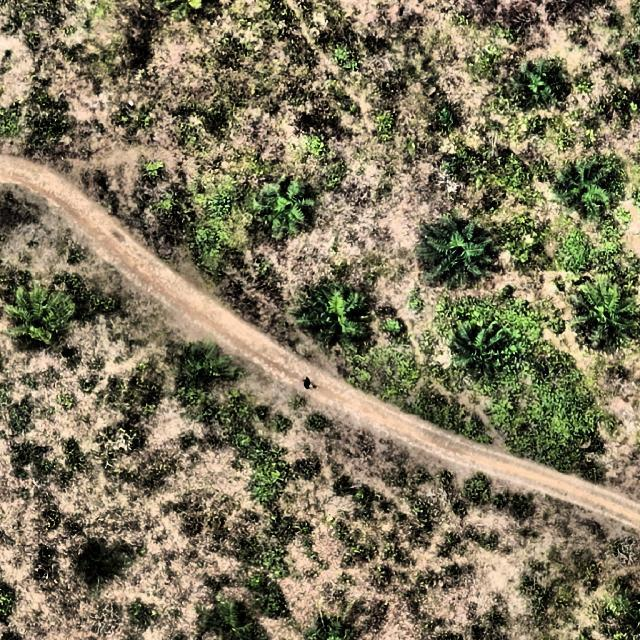Kelapa_Sawit: (427, 222, 495, 288), (13, 285, 78, 346), (458, 318, 518, 382), (307, 288, 375, 342), (258, 181, 318, 240), (571, 289, 634, 345), (564, 164, 622, 218), (514, 62, 574, 110)
